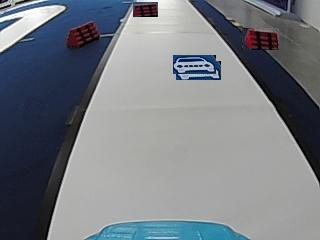bomb: (67, 19, 99, 48)
